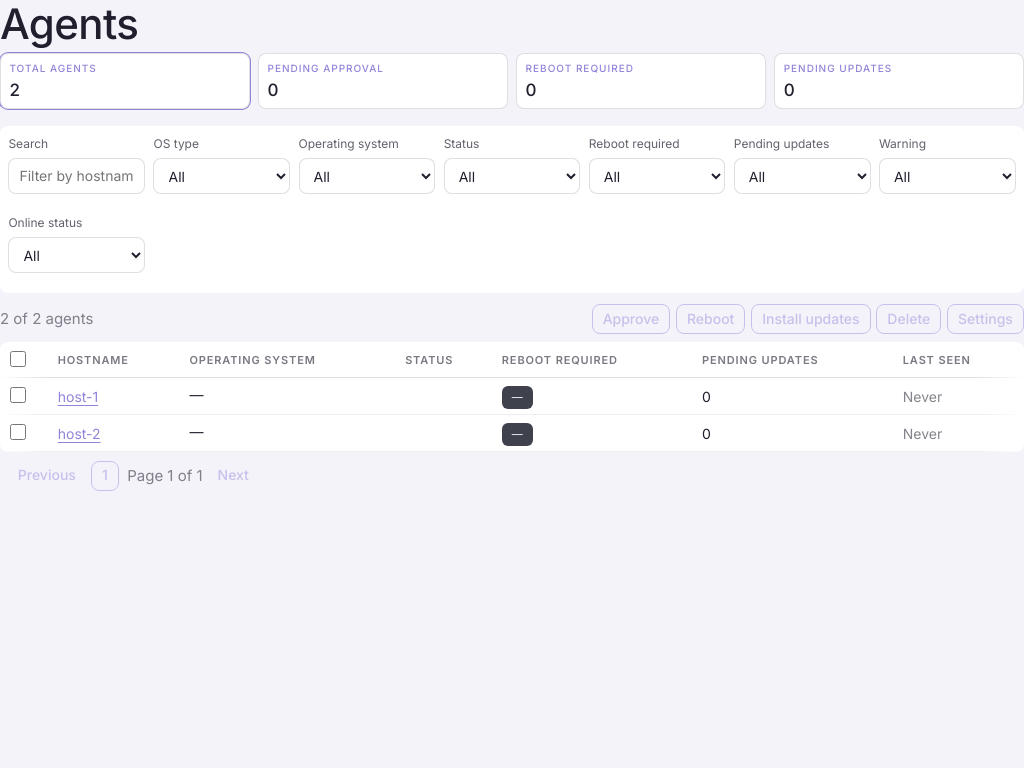
Test: AgentsListPage › opens the bulk settings dialog and pushes only the checked field, leaving the others untouched
Expected: the link "host-1" is shown, [58,388,98,405]
Click the checkbox named "select host-1" at (18, 395), box [10,387,26,403]
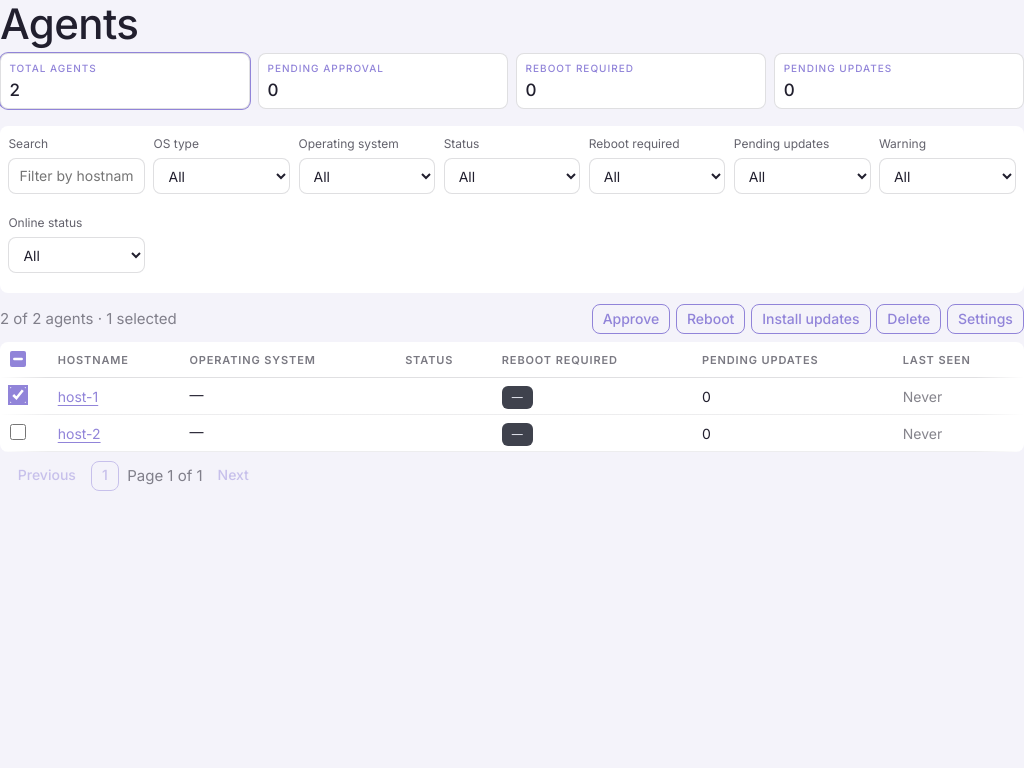
Click the checkbox named "select host-2" at (18, 432), box [10,424,26,440]
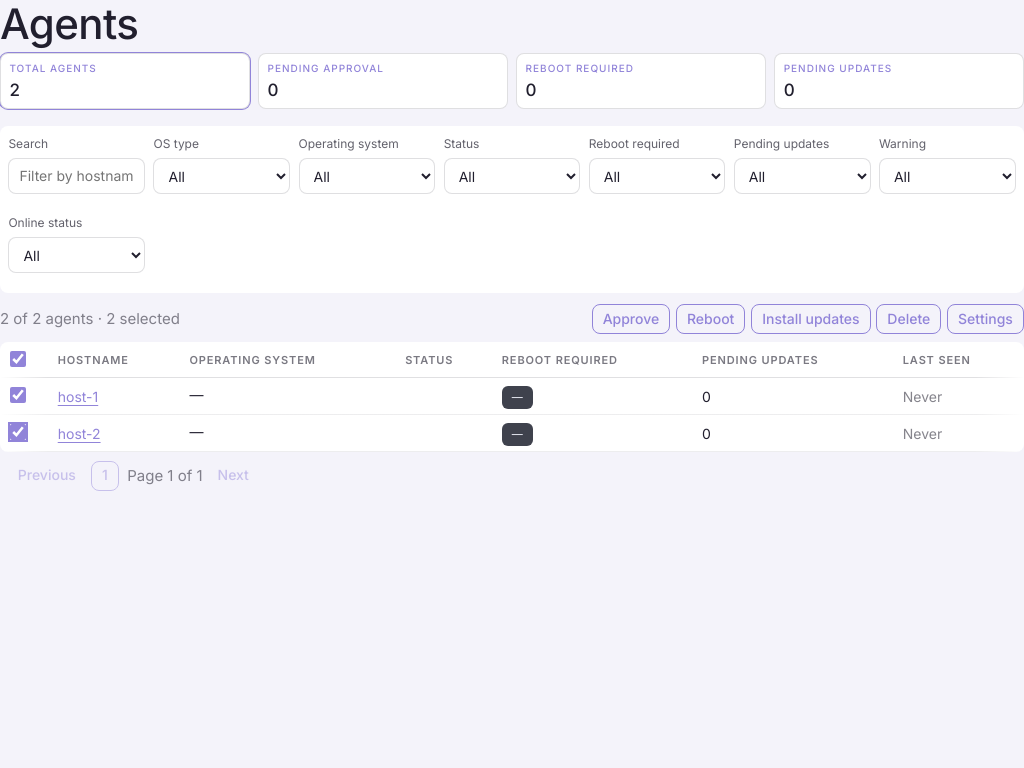
Click the button "Settings" at (985, 319), box [947,304,1023,334]
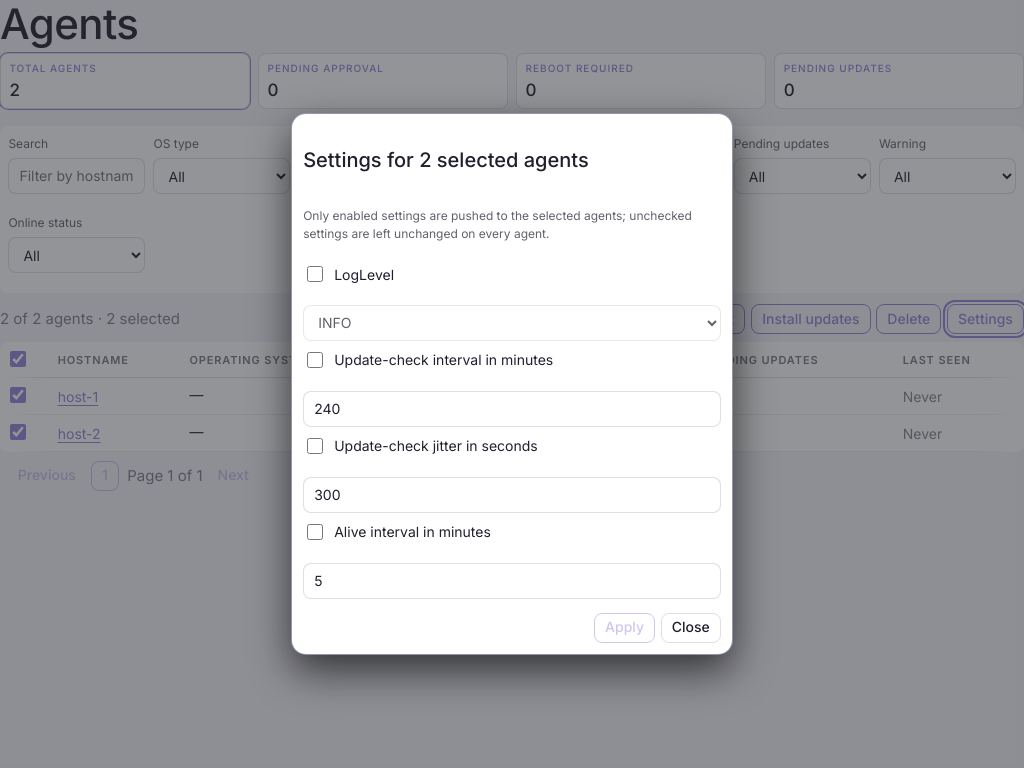
Now the button "Apply" is disabled, box [594,613,655,643]
Click the checkbox labelled "LogLevel" at (315, 274), box [307,266,323,282]
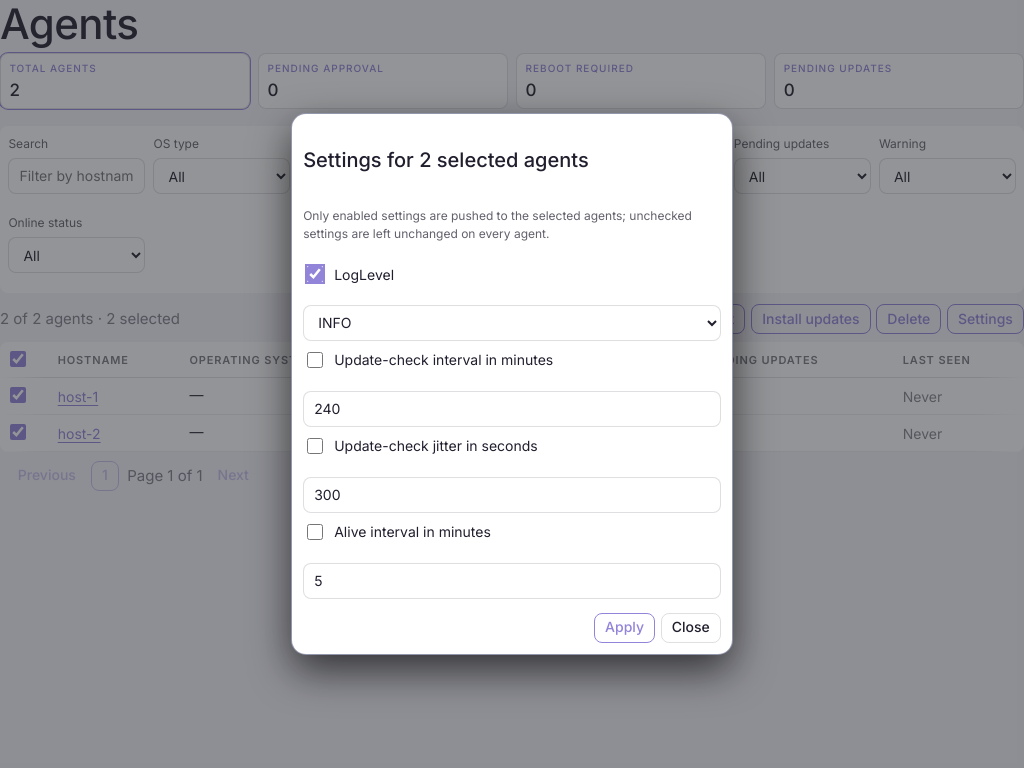
Select "DEBUG" in the dropdown at (512, 323), box [303,305,721,341]
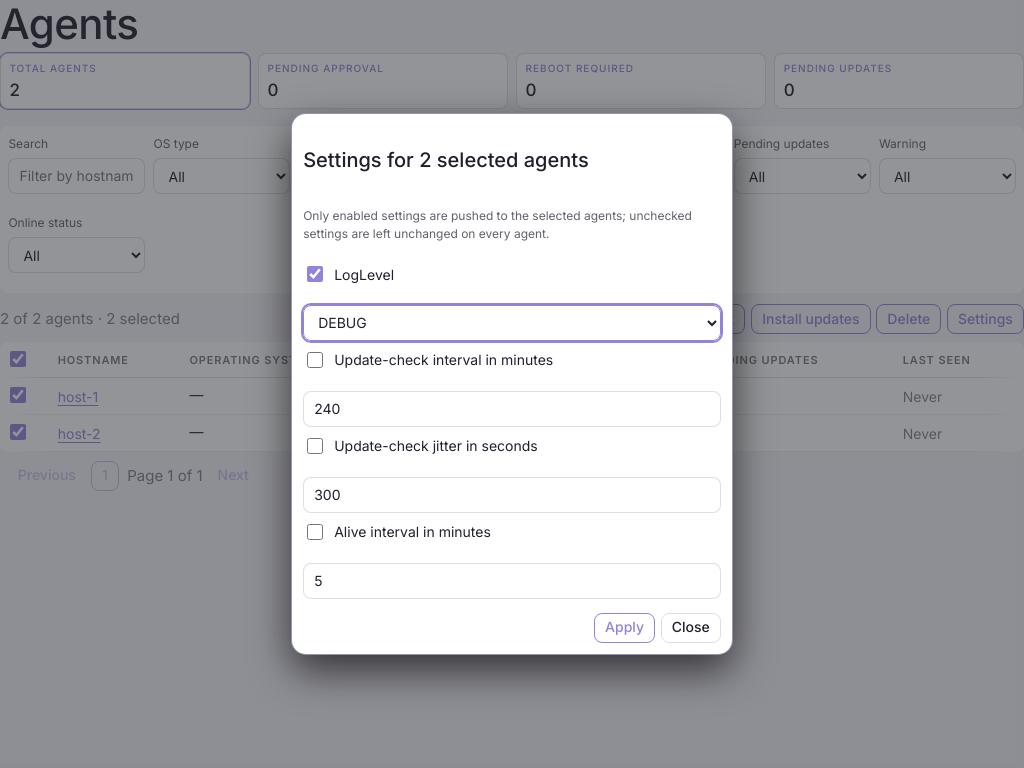
Now the button "Apply" is enabled
Click the button "Apply" at (625, 628), box [594,613,655,643]
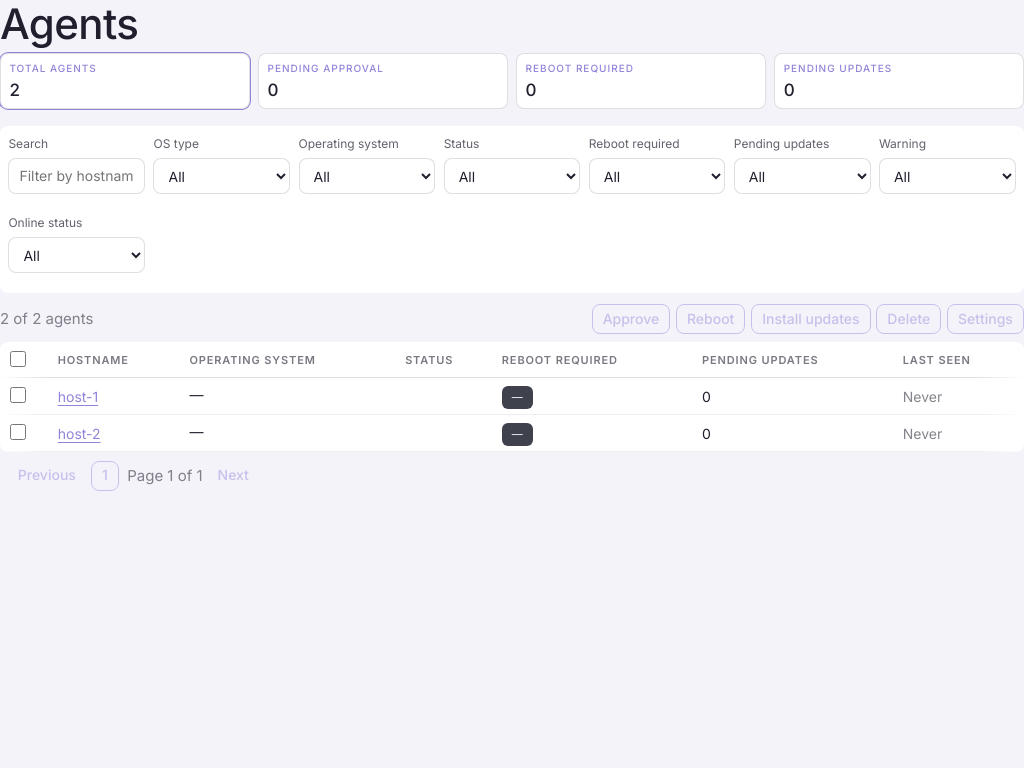
Now the dialog is gone
